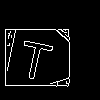T: (16, 31, 56, 82)
